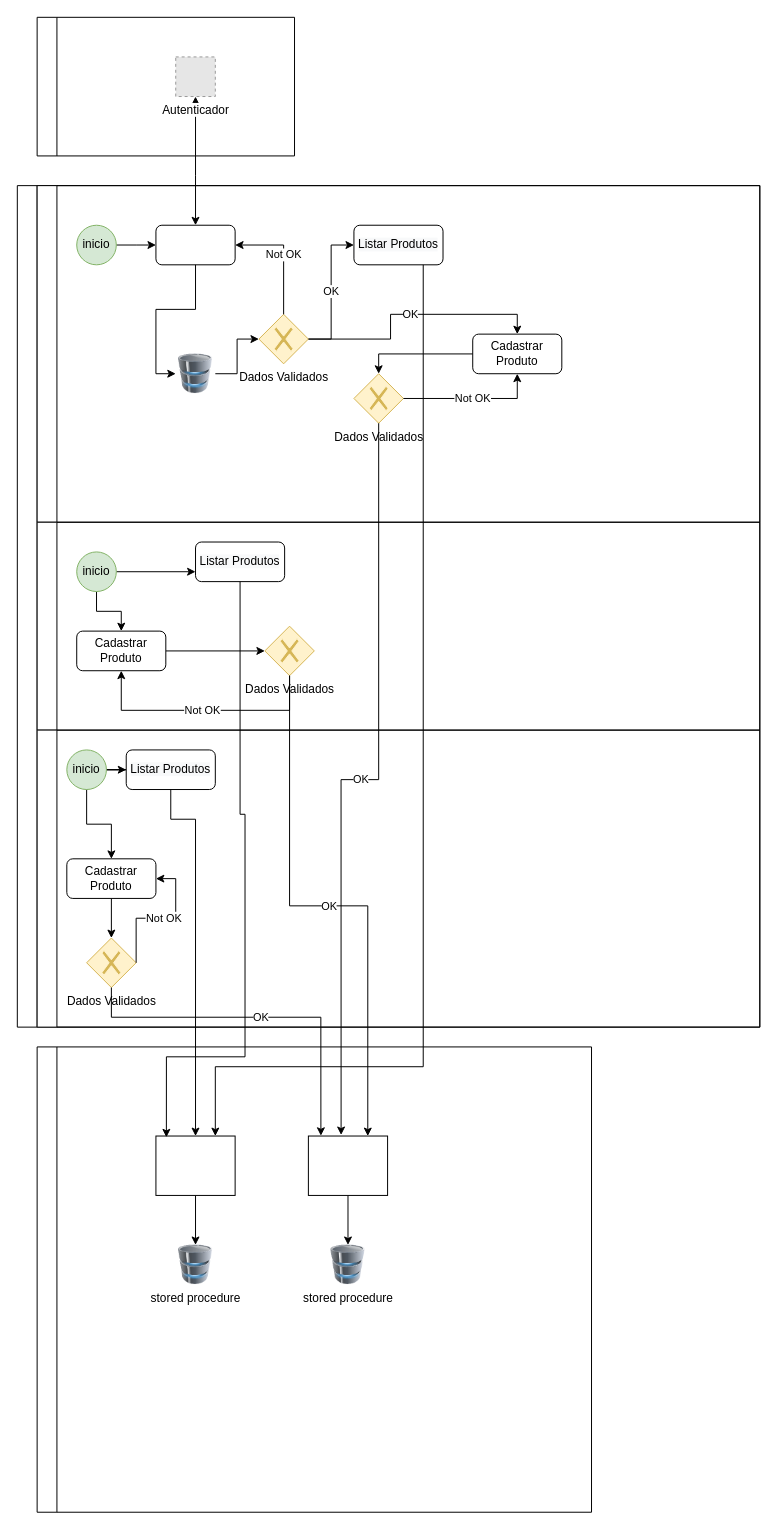
The diagram is 777 pixels wide and 1530 high, and some of its shapes have lost their labels. Grey dashed boxes stand in for pictures. Each missing label, with the box of its shape:
API Produtos: (36, 1046, 592, 1512)
Canal Mobile: (36, 729, 760, 1027)
Canal Server/cliente: (36, 521, 760, 730)
Canal Web: (36, 185, 760, 522)
Login: (155, 224, 235, 265)
Requisição cadastro: (307, 1135, 388, 1195)
Requisição Listagem: (155, 1135, 235, 1195)
Serviço Externo: (36, 16, 295, 156)
